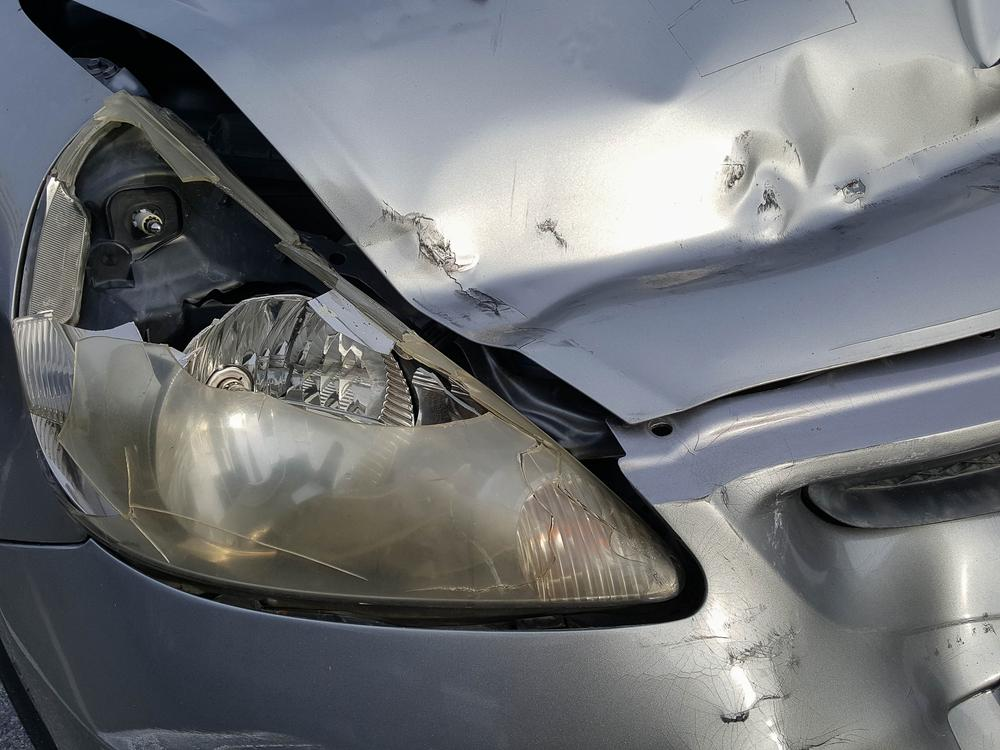dent: (366, 51, 1000, 348), (724, 499, 976, 743)
lamp broken: (19, 85, 683, 607)
scratch: (97, 722, 340, 750)
